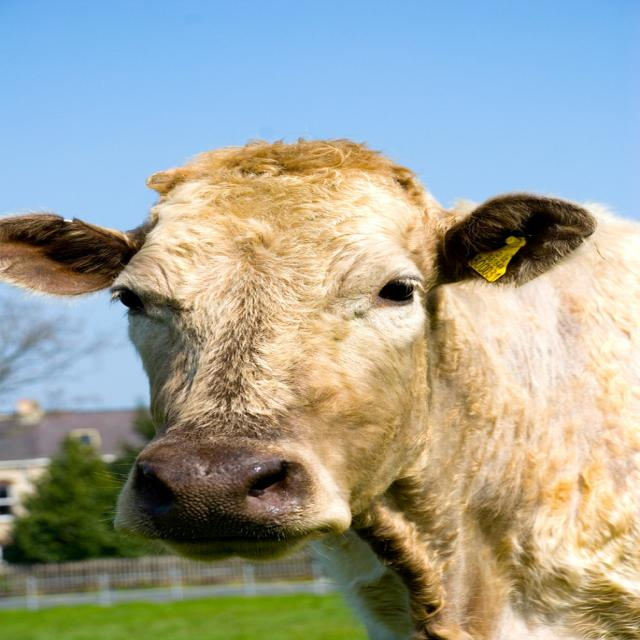Cattle: (25, 109, 640, 640)
